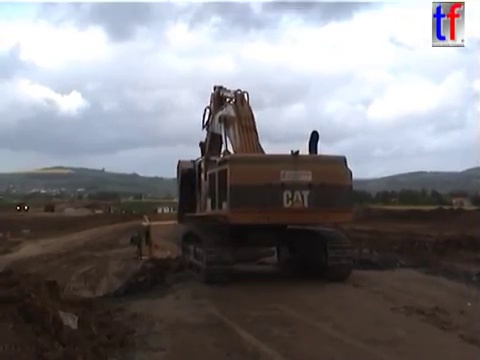excavator: (171, 81, 362, 284)
truck: (127, 211, 279, 286), (14, 200, 31, 215), (40, 201, 58, 214)
